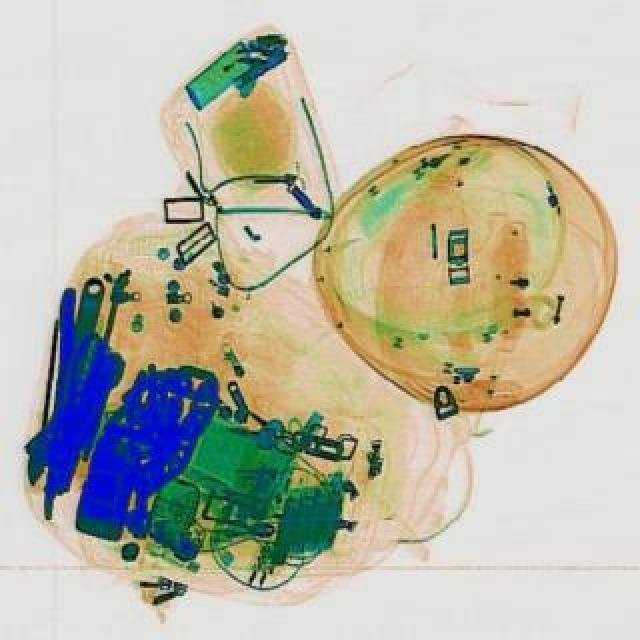scissors: (22, 276, 122, 504)
